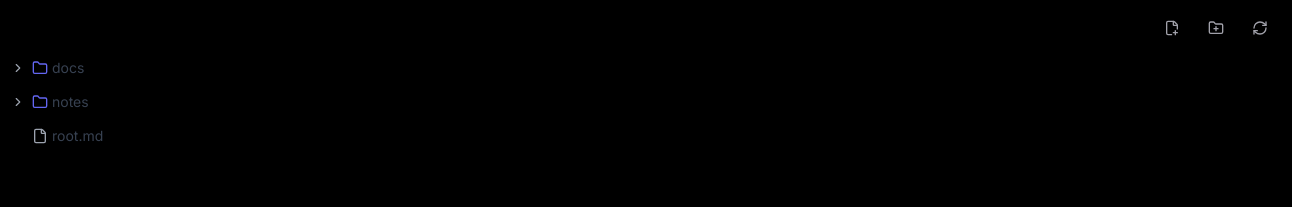
Test: FileTree › create file › cancels creation on Escape
Click the button titled "新建文件" at (1172, 28), box 1152,12 -> 1192,44
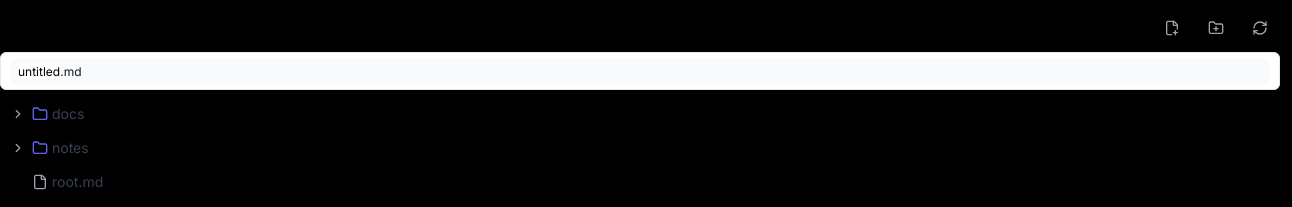
Result: the field is shown
Press Escape in the field, box 9,57 -> 1271,85
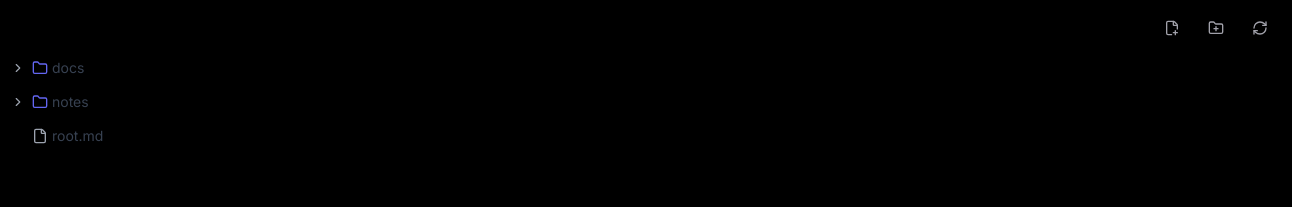
Result: the field is gone
